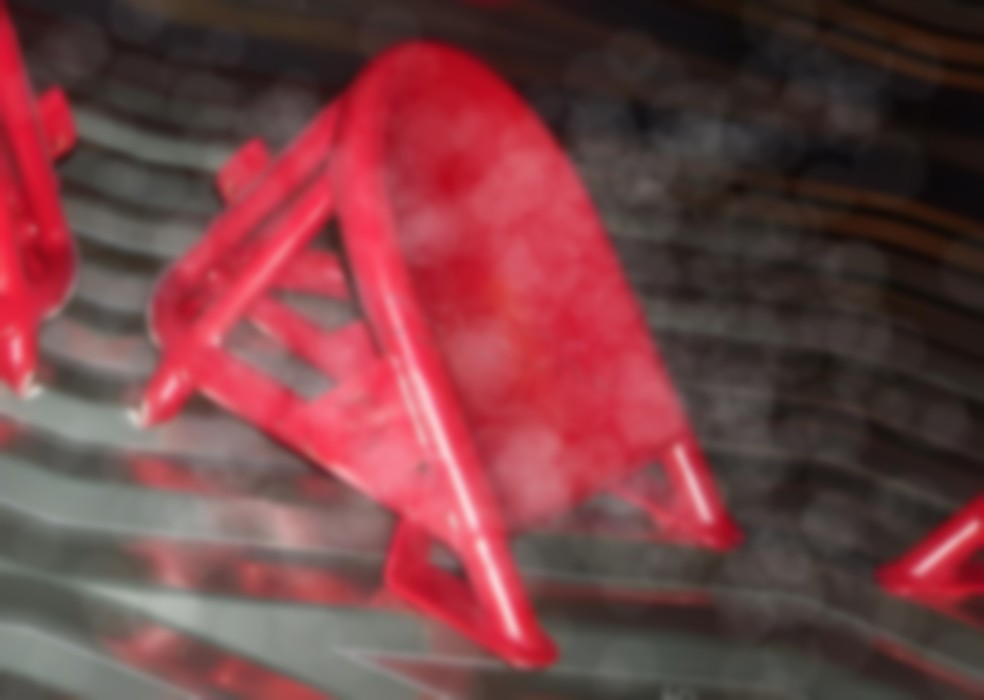chock: (58, 0, 854, 700)
